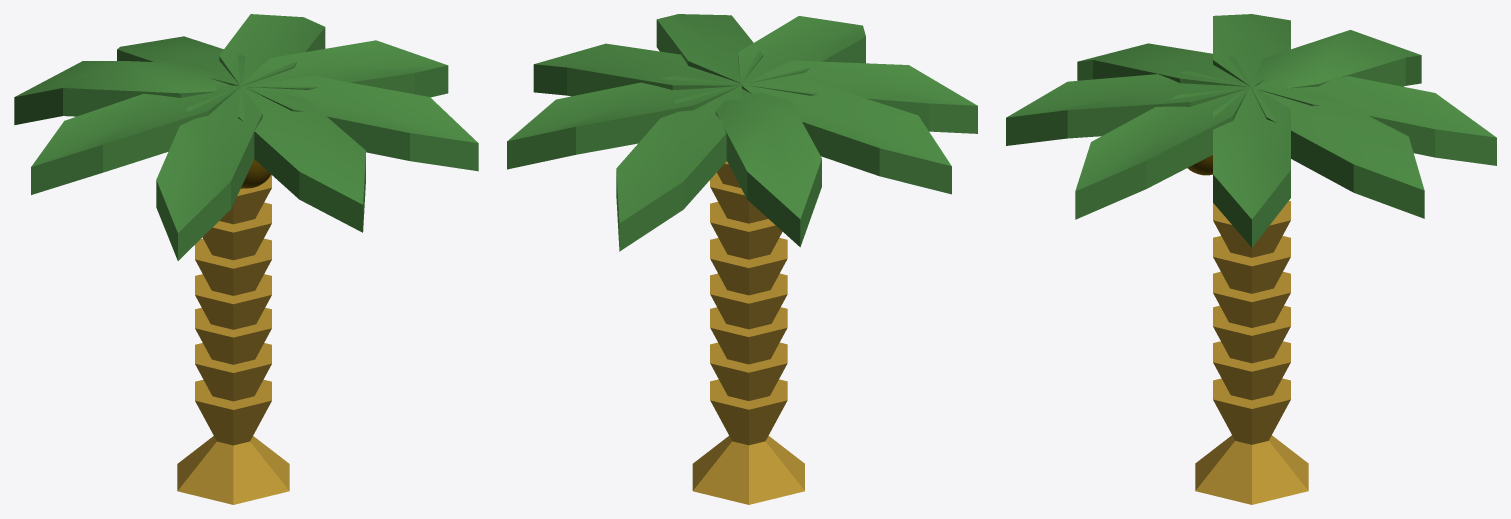
Rendered from Palm Tree.fbx.
The picture shows the model from 3 angles, left to right: view 1: azimuth 30°, elevation 25°; view 2: azimuth 150°, elevation 25°; view 3: azimuth 270°, elevation 25°; orthographic projection.
Visible parts, largest first — view 1: pCylinder3, pCylinder2, pCylinder5, pCylinder1, pCylinder8, pCylinder4, pCone10, pCylinder7, pCone1, pCylinder6, pCone2, pCone3 (+4 smaller); view 2: pCylinder1, pCylinder8, pCylinder6, pCylinder7, pCylinder3, pCylinder4, pCone10, pCylinder2, pCylinder5, pCone1, pCone2, pCone3 (+4 smaller); view 3: pCylinder7, pCylinder5, pCylinder4, pCylinder2, pCylinder6, pCylinder8, pCone10, pCylinder3, pCylinder1, pCone1, pCone2, pCone3 (+3 smaller).
Boxes of the visible parts, x1,y1,x2,y2 form: pCylinder3: [156, 87, 262, 260]; pCylinder2: [238, 86, 365, 232]; pCylinder5: [244, 75, 478, 171]; pCylinder1: [31, 85, 241, 194]; pCylinder8: [14, 61, 231, 125]; pCylinder4: [237, 40, 448, 97]; pCone10: [177, 436, 289, 504]; pCylinder7: [219, 14, 325, 86]; pCone1: [195, 379, 271, 445]; pCylinder6: [117, 36, 244, 85]; pCone2: [195, 343, 271, 401]; pCone3: [195, 238, 271, 295]; pCylinder1: [741, 81, 951, 194]; pCylinder8: [715, 88, 821, 247]; pCylinder6: [616, 84, 742, 251]; pCylinder7: [507, 76, 741, 169]; pCylinder3: [743, 60, 977, 133]; pCylinder4: [533, 43, 744, 96]; pCone10: [692, 435, 804, 504]; pCylinder2: [738, 16, 865, 84]; pCylinder5: [656, 14, 763, 83]; pCone1: [710, 379, 787, 445]; pCone2: [710, 342, 787, 400]; pCone3: [710, 238, 787, 295]; pCylinder7: [1251, 87, 1424, 218]; pCylinder5: [1075, 88, 1248, 219]; pCylinder4: [1213, 85, 1290, 247]; pCylinder2: [1006, 71, 1251, 145]; pCylinder6: [1252, 76, 1496, 165]; pCylinder8: [1255, 30, 1421, 88]; pCone10: [1195, 435, 1308, 504]; pCylinder3: [1077, 43, 1250, 86]; pCylinder1: [1213, 14, 1290, 87]; pCone1: [1213, 378, 1290, 444]; pCone2: [1213, 341, 1290, 400]; pCone3: [1213, 236, 1290, 293].
Bounding box in the file's own units: 10.79 × 9.92 × 10.88.
